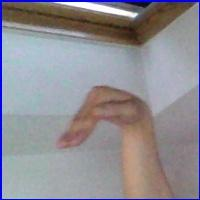del: (49, 82, 159, 165)
